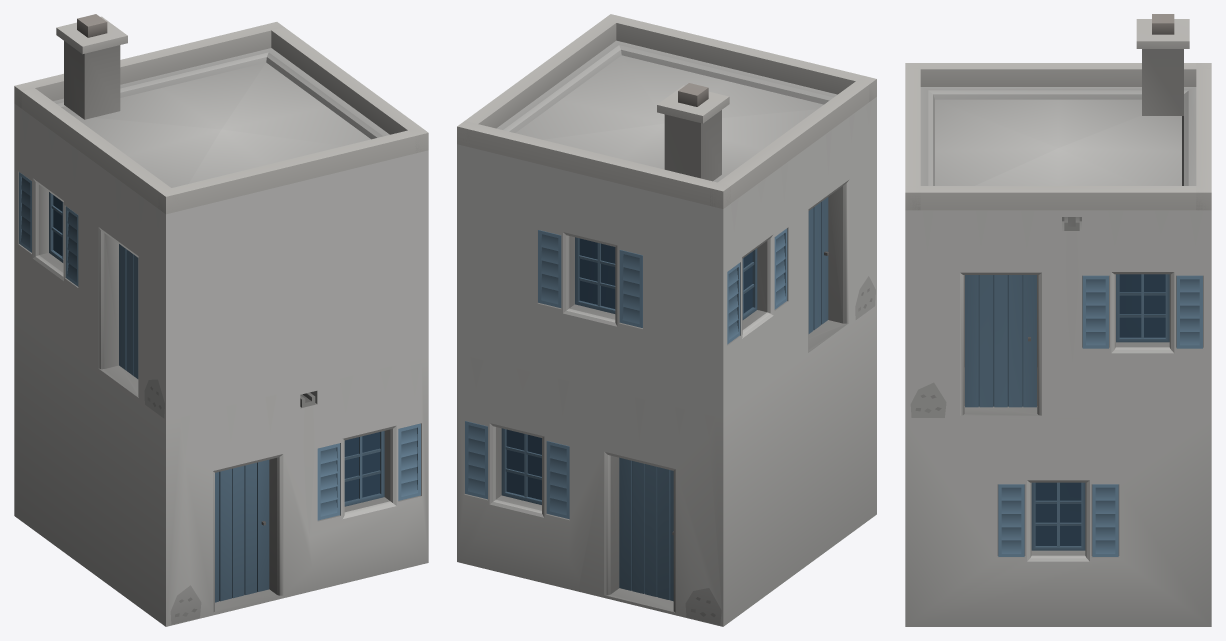
3 views of the same model, side by side, from view 1: azimuth 30°, elevation 25°; view 2: azimuth 150°, elevation 25°; view 3: azimuth 270°, elevation 25° (orthographic).
Parts seen in each view (by area): view 1: cube2; view 2: cube2; view 3: cube2.
Part boxes in pixels (bbox=[...]): cube2: bbox=[14, 14, 428, 626]; cube2: bbox=[457, 14, 876, 626]; cube2: bbox=[905, 14, 1211, 626].
Size of the model in its own units: 4.4 by 8 by 4.4.
